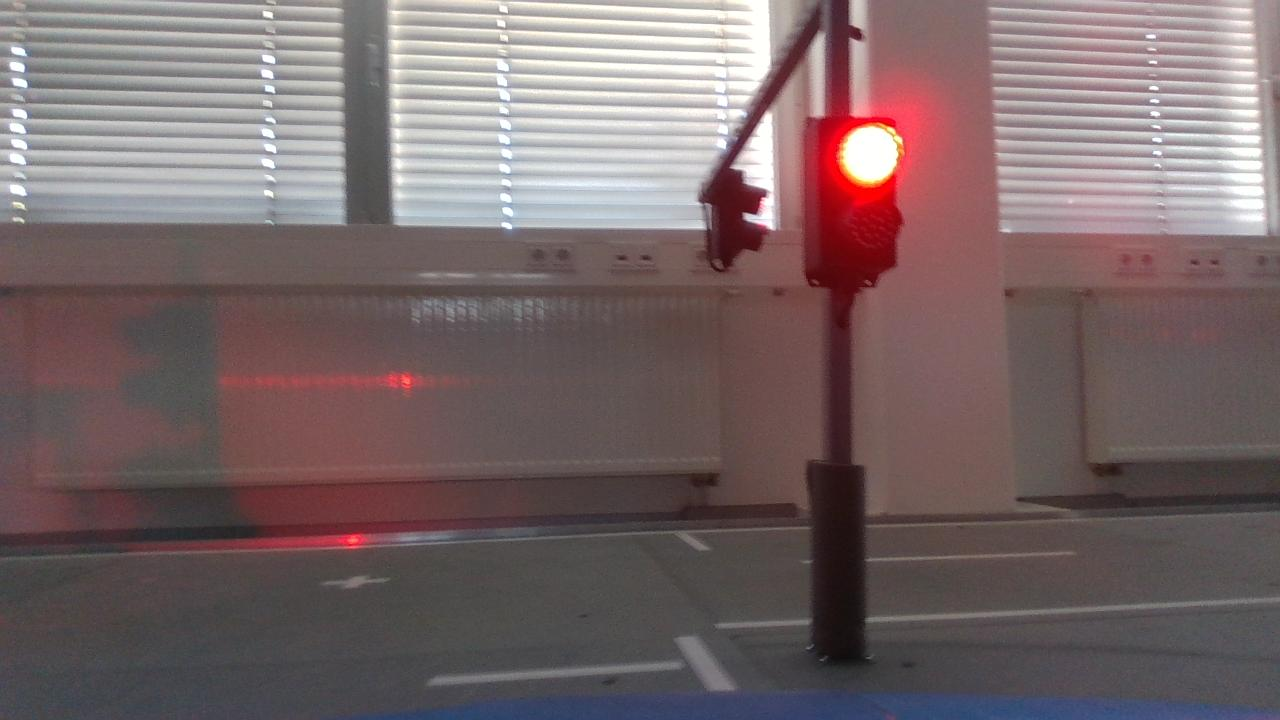traffic_light_red: (787, 98, 919, 307)
